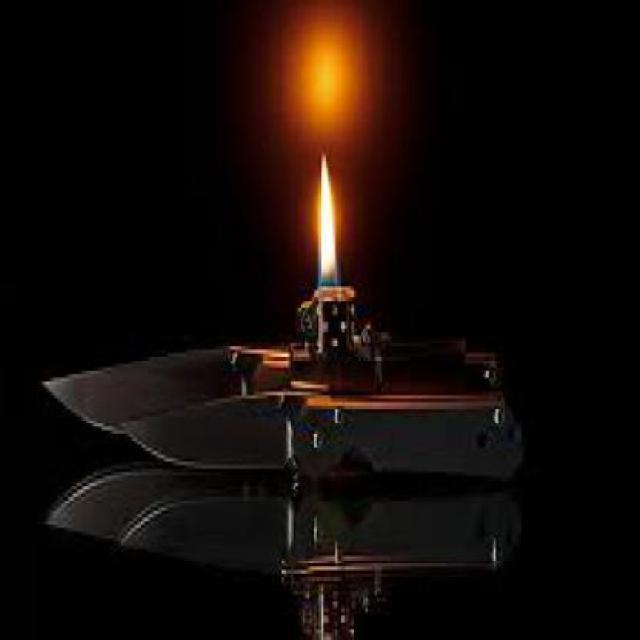Fire: (313, 146, 344, 285)
